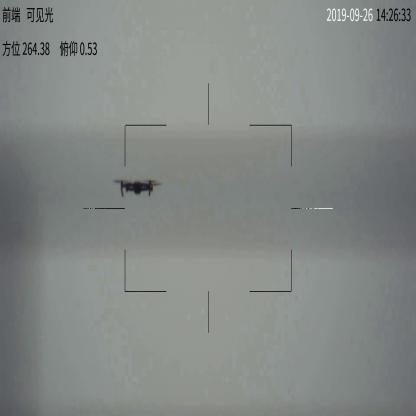uav: (112, 176, 157, 198)
